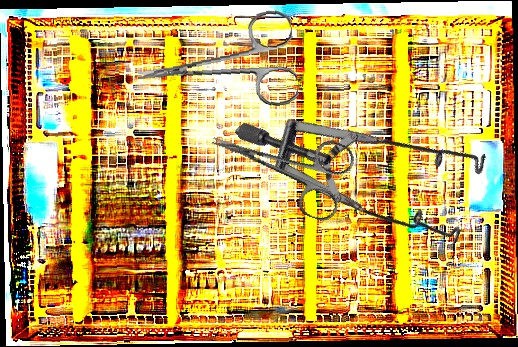Iris Scissors: (198, 100, 360, 225), (132, 8, 300, 120)
Speculum: (233, 17, 517, 306)
